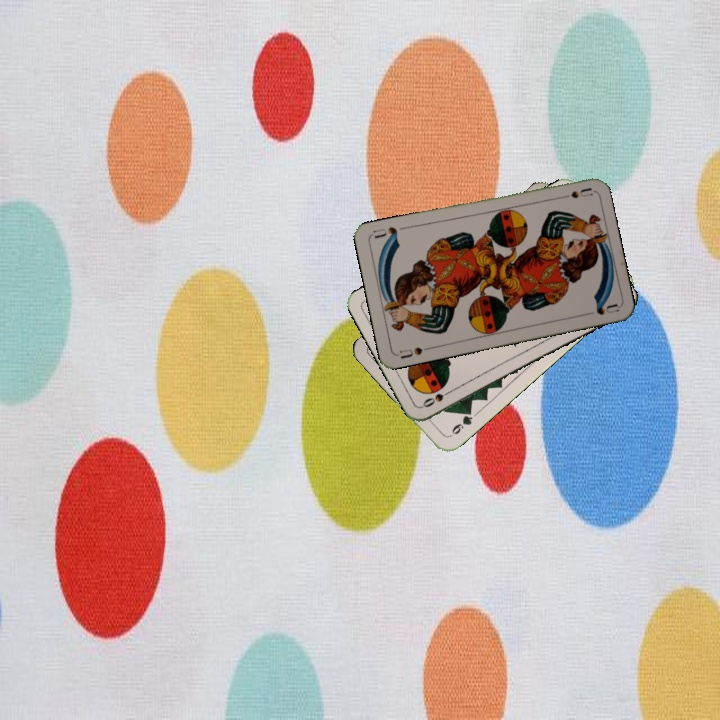G9: (445, 406, 475, 439)
SO: (418, 385, 456, 410)
SU: (553, 183, 594, 202), (394, 343, 434, 361)
